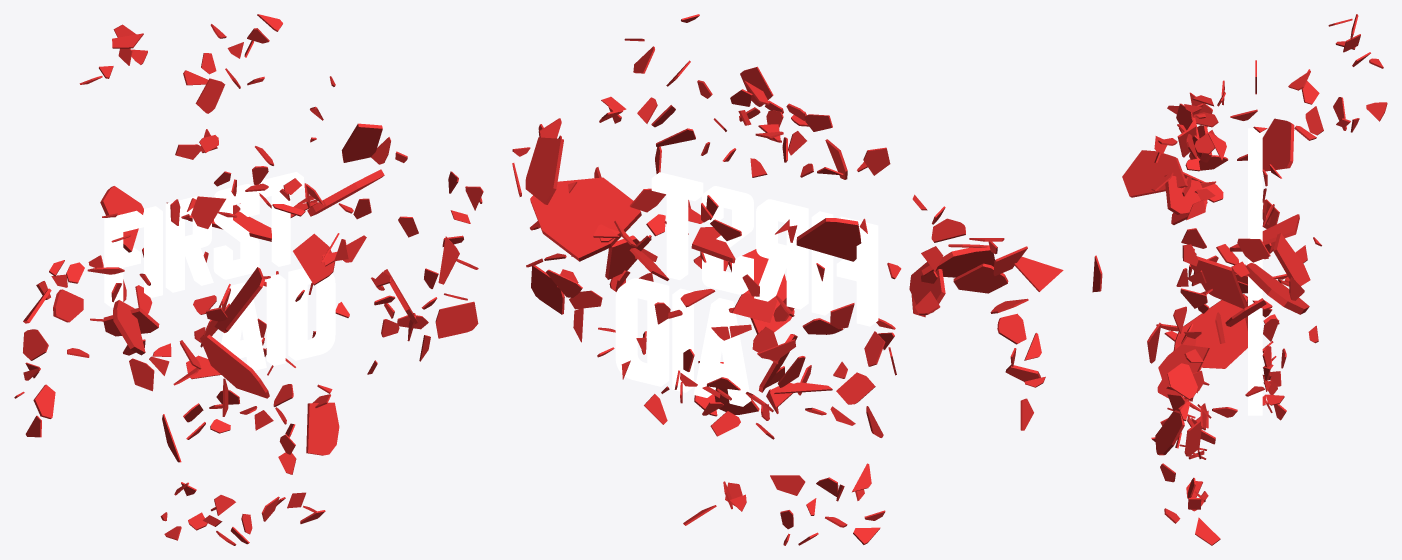
Rendered from main_menu.gltf.
3 renders of one model, left to right at view 1: azimuth 30°, elevation 25°; view 2: azimuth 150°, elevation 25°; view 3: azimuth 270°, elevation 25°, orthographic. The views are drawn at different scales.
Parts seen in each view (by area): view 1: Text_First, Text_Aid, Plane.001_cell.096, Plane.005_cell.021, Plane.004_cell.735, Plane.004_cell.812, Plane.004_cell.775, Plane.003_cell.089, Plane.jumbo_cell.732, Plane.002_cell.683, Plane.004_cell.763, Plane.002_cell.658 (+6 smaller); view 2: Text_First, Text_Aid, Plane.004_cell.763, Plane.003_cell.089, Plane.004_cell.775, Plane.002_cell.683, Plane.002_cell.658, Plane.jumbo_cell.732, Plane.004_cell.812, Plane.004_cell.780, Plane.001_cell.017, Plane.002_cell.639 (+4 smaller); view 3: Plane.001_cell.096, Text_First, Plane.002_cell.683, Text_Aid, Plane.003_cell.089, Plane.jumbo_cell.732, Plane.004_cell.763, Plane.004_cell.780, Plane.jumbo_cell.188, Plane.004_cell.775, Plane.005_cell.021, Plane.004_cell.817 (+5 smaller).
Part boxes in pixels (x1,y1,x2,y2): Text_First: (104,172,303,307); Text_Aid: (219,268,335,378); Plane.001_cell.096: (200,334,269,398); Plane.005_cell.021: (306,402,339,455); Plane.004_cell.735: (293,233,335,285); Plane.004_cell.812: (435,301,478,338); Plane.004_cell.775: (341,123,382,162); Plane.003_cell.089: (100,186,143,252); Plane.jumbo_cell.732: (214,267,264,332); Plane.002_cell.683: (113,300,145,355); Plane.004_cell.763: (307,169,384,216); Plane.002_cell.658: (53,289,83,322); Text_First: (651,172,878,326); Text_Aid: (615,278,751,406); Plane.004_cell.763: (530,177,641,261); Plane.003_cell.089: (796,218,861,261); Plane.004_cell.775: (525,137,563,204); Plane.002_cell.683: (921,245,994,277); Plane.002_cell.658: (953,263,1008,293); Plane.jumbo_cell.732: (728,249,794,334); Plane.004_cell.812: (531,265,564,314); Plane.004_cell.780: (605,235,639,279); Plane.001_cell.017: (691,227,735,263); Plane.002_cell.639: (1014,256,1063,291); Plane.001_cell.096: (1173,300,1247,368); Text_First: (1248,128,1262,300); Plane.002_cell.683: (1122,150,1188,197); Text_Aid: (1248,300,1262,415); Plane.003_cell.089: (1262,118,1294,171); Plane.jumbo_cell.732: (1190,256,1246,308); Plane.004_cell.763: (1246,263,1309,314); Plane.004_cell.780: (1158,344,1209,396); Plane.jumbo_cell.188: (1164,175,1207,214); Plane.004_cell.775: (1273,233,1310,285); Plane.005_cell.021: (1155,408,1184,455); Plane.004_cell.817: (1167,363,1197,399).
Size of the model in its own units: 6.41 by 6.16 by 3.47.
